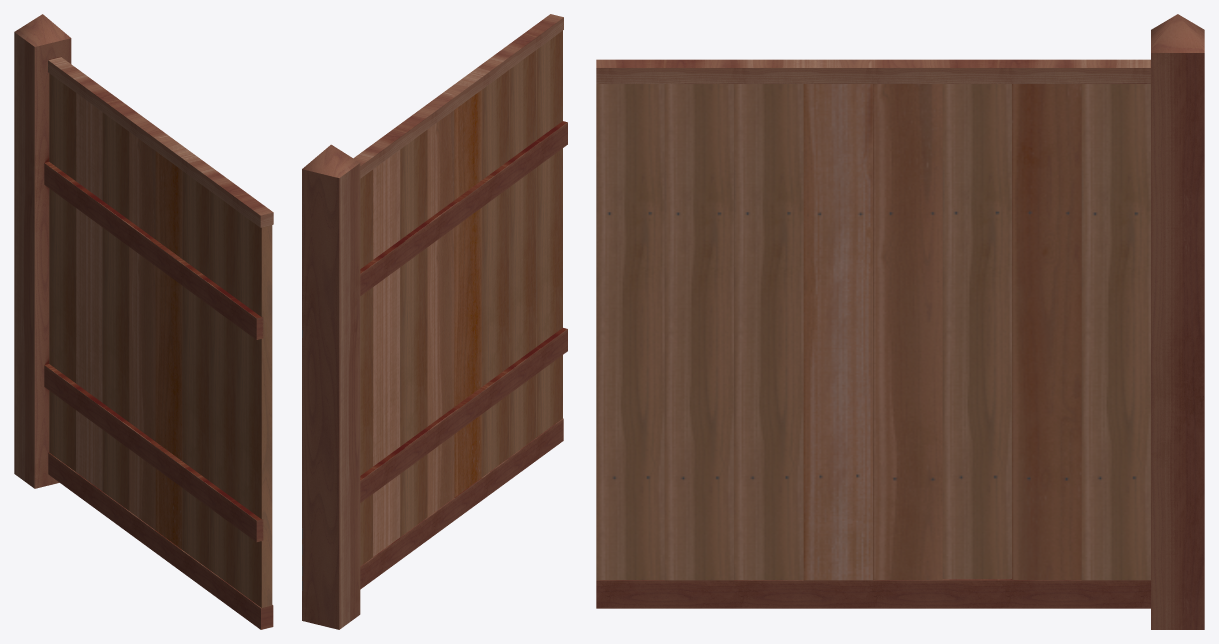
The model's file is PalingFence.fbx.
The picture shows the model from 3 angles, left to right: view 1: azimuth 30°, elevation 25°; view 2: azimuth 150°, elevation 25°; view 3: azimuth 270°, elevation 25°; orthographic projection. The views are drawn at different scales.
Visible parts, largest first — view 1: PalingFence; view 2: PalingFence; view 3: PalingFence.
Part boxes in pixels (x1,y1,x2,y2): PalingFence: (14,14,273,629); PalingFence: (302,14,567,629); PalingFence: (596,14,1204,629).
Size of the model in its own units: 0.0904 by 1.1 by 1.
